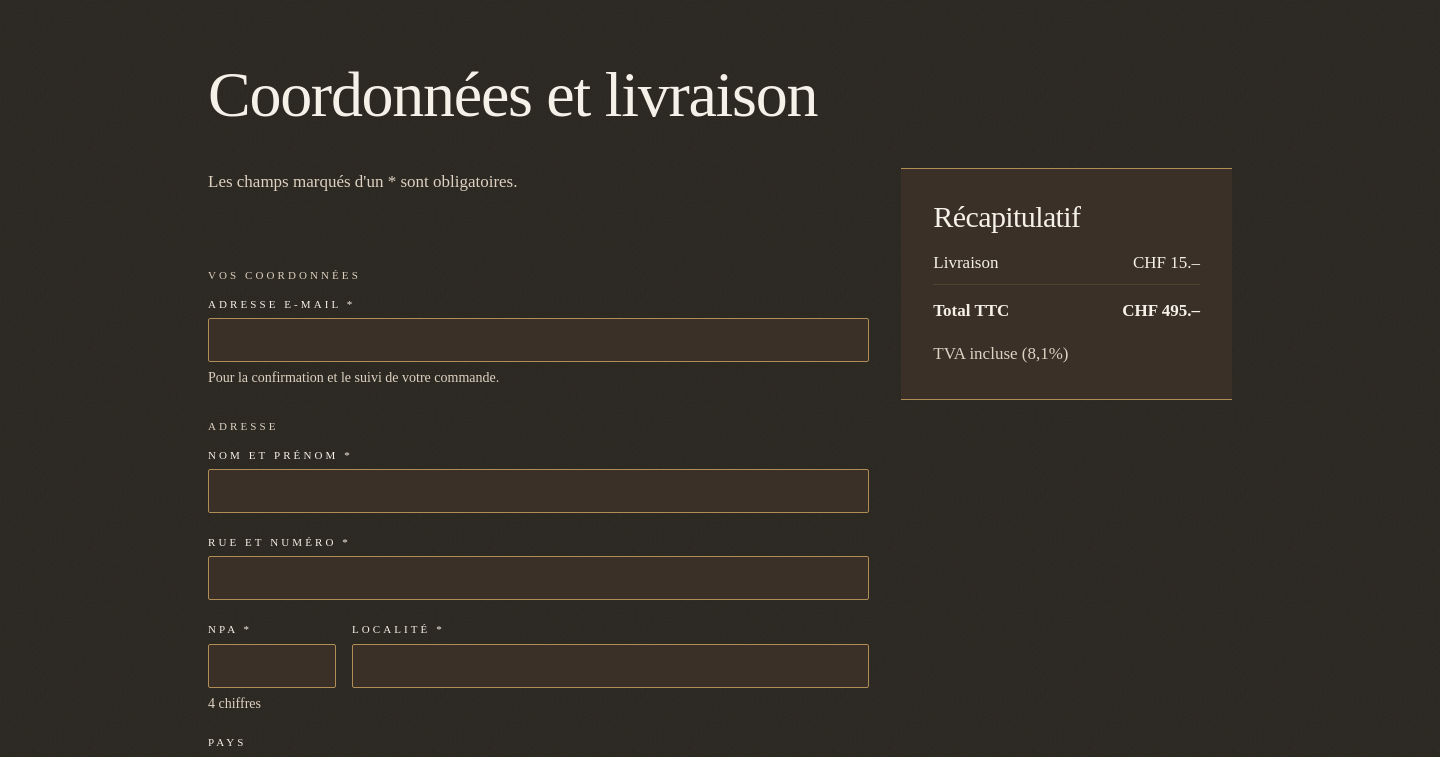
it: E5-03 · checkout, coordonnées et livraison › annonce une réservation expirée
Type "a@exemple.ch" into the field labelled "Adresse e-mail *". click: (539, 340)
box: 208,318 -> 869,362
Type "Alice Noyer" into the field labelled "Nom et prénom *". click: (539, 491)
box: 208,469 -> 869,513
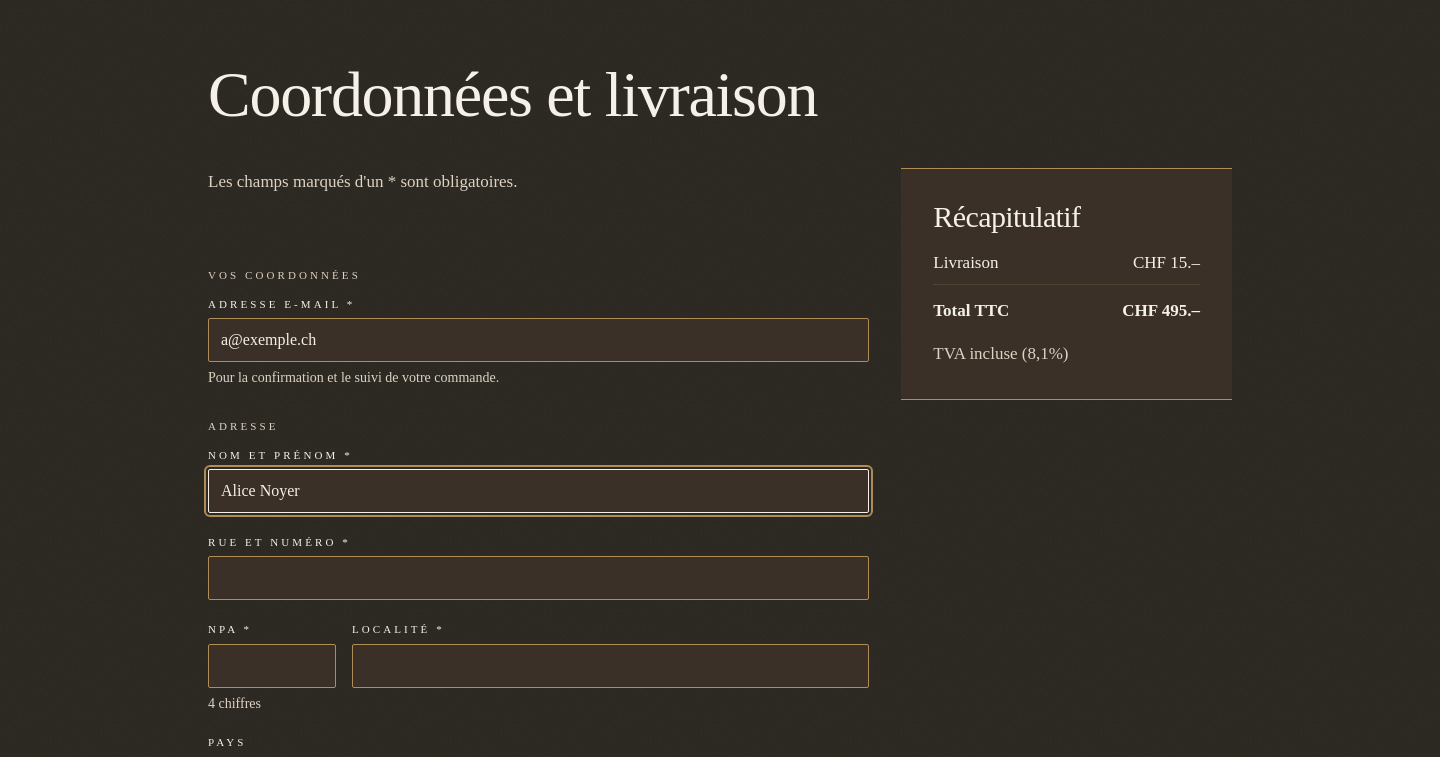
Type "Rue du Rhône 1" into the field labelled "Rue et numéro *". click: (539, 578)
box: 208,556 -> 869,600
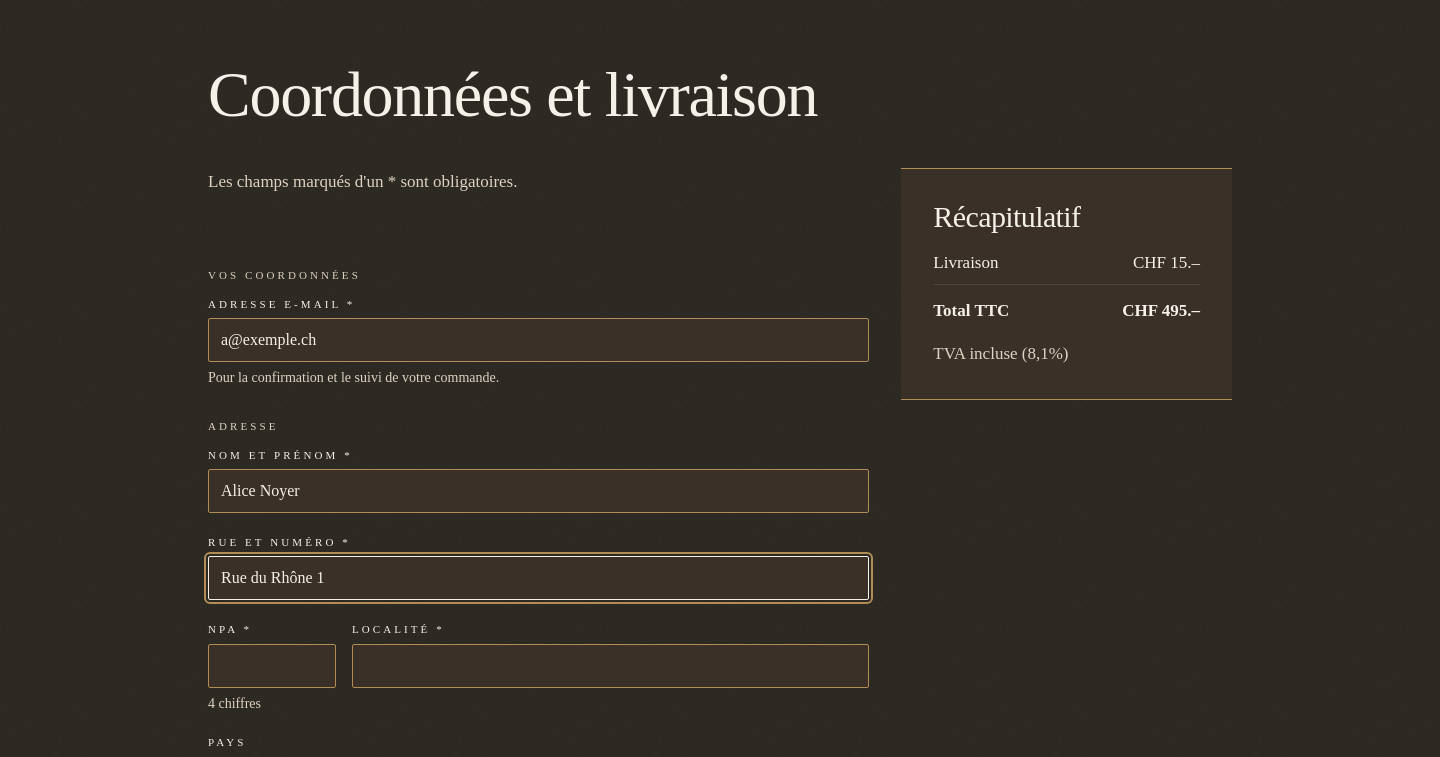
Type "1204" into the field labelled "NPA *". click: (272, 666)
box: 208,644 -> 336,688
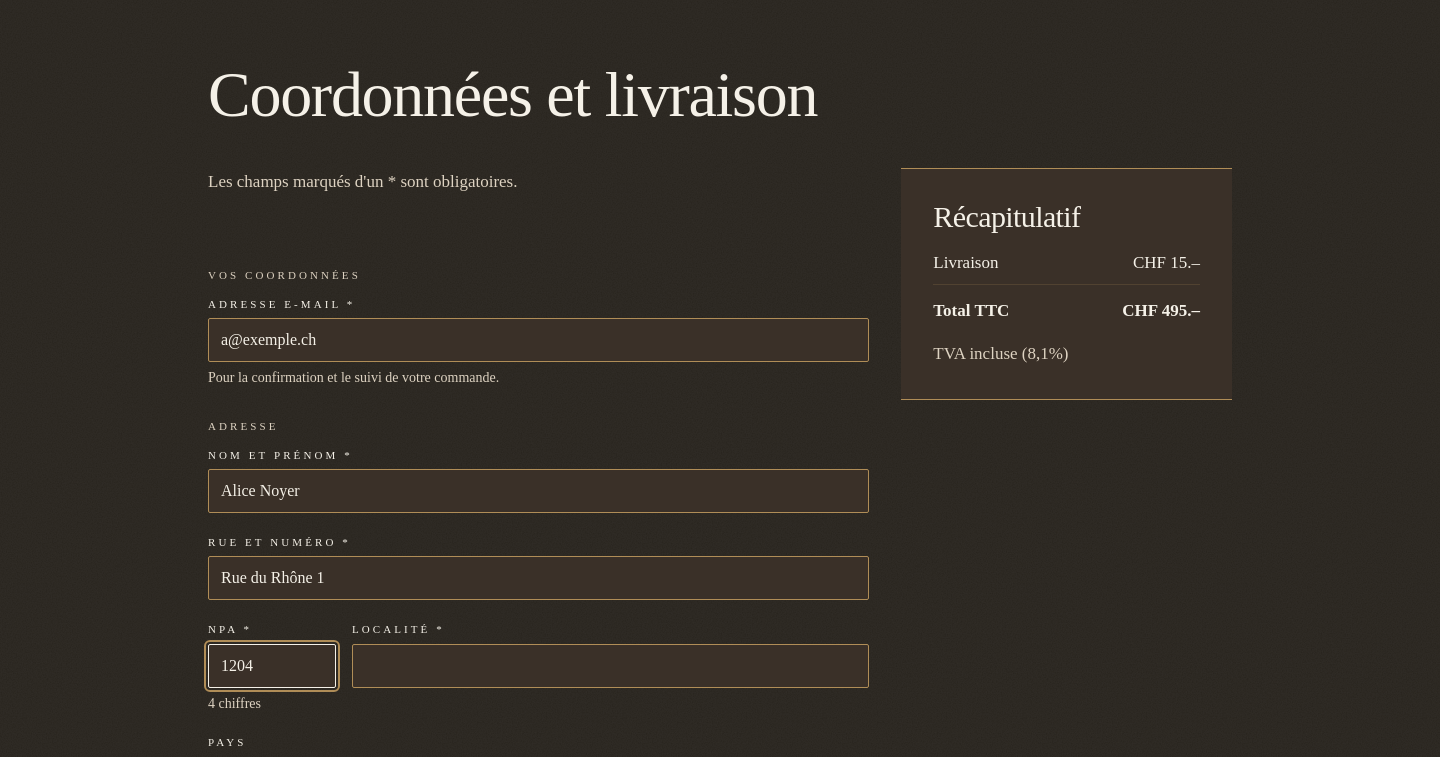
Type "Genève" into the field labelled "Localité *". click: (611, 666)
box: 352,644 -> 869,688
(page scrolled)
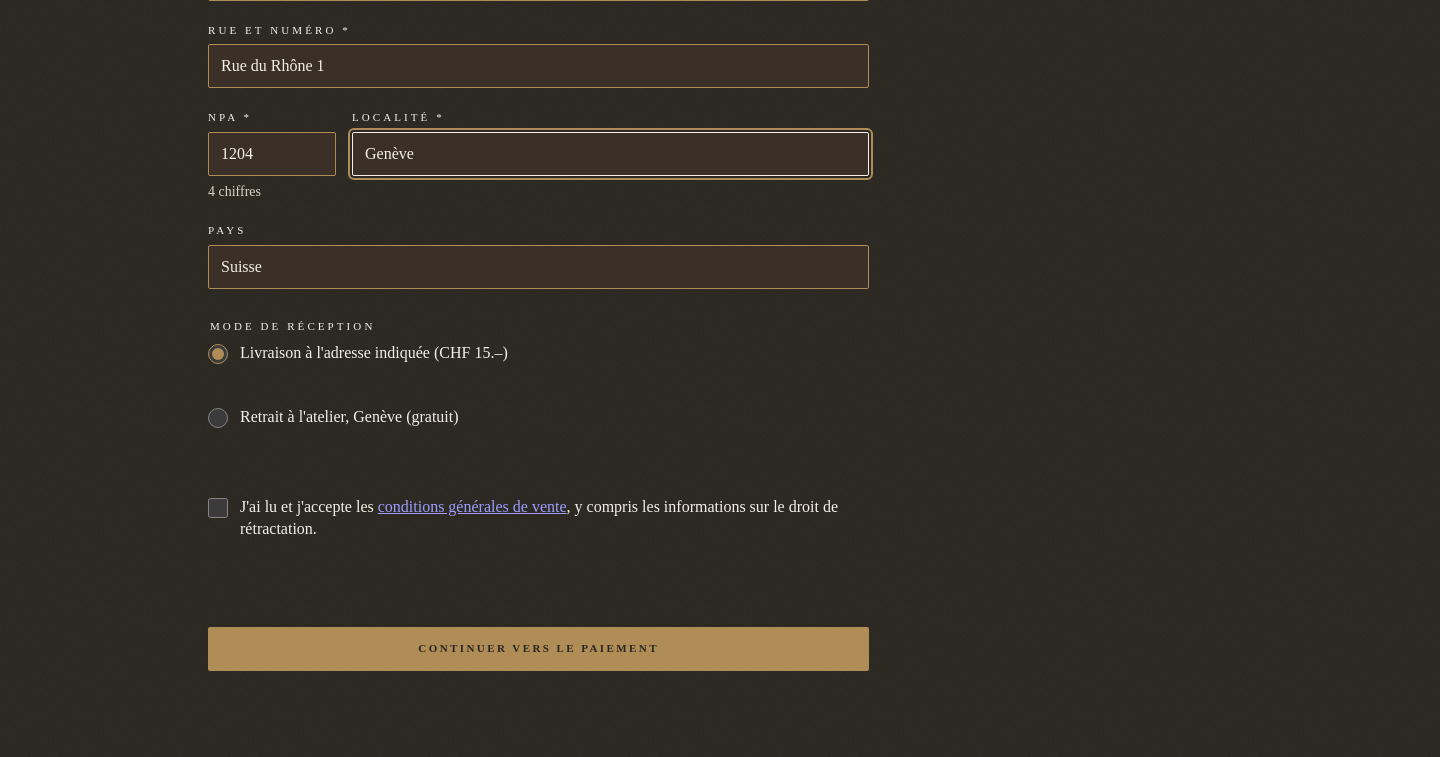
Click the checkbox. click: click(218, 508)
box: 208,498 -> 228,518
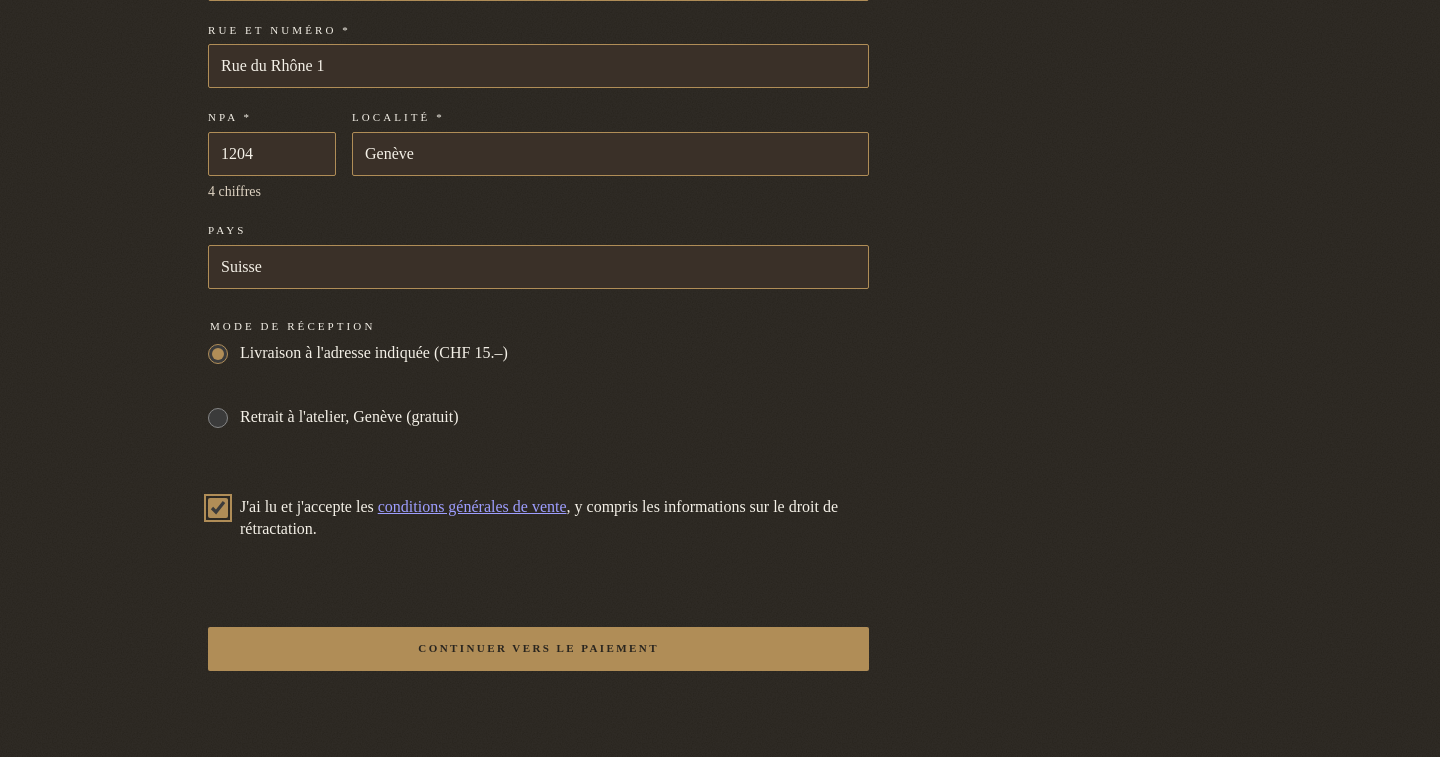
Click the button "Continuer vers le paiement". click: click(539, 649)
box: 208,627 -> 869,671
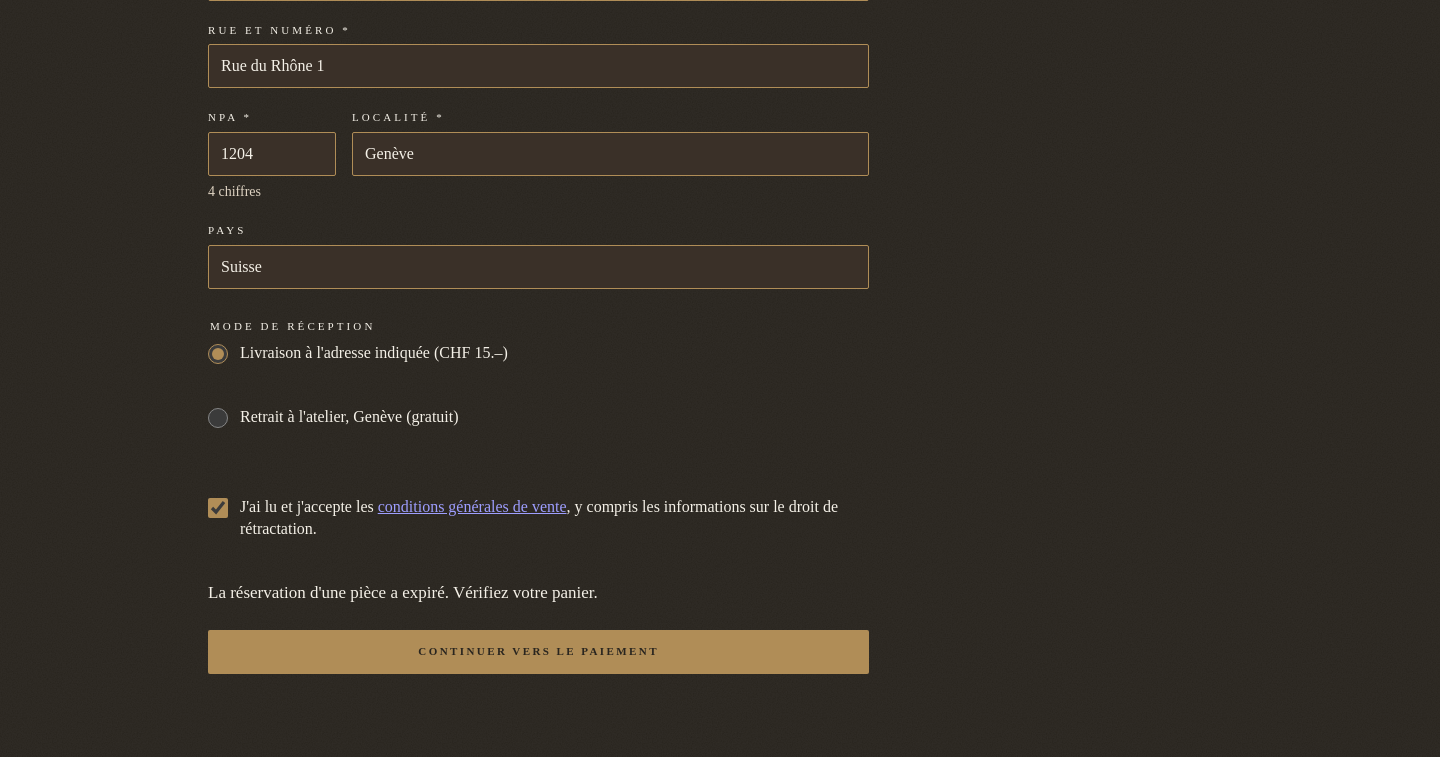
Expected: the text "La réservation d'une pièce a expiré. Vérifiez votre panier." is shown, 208,583 -> 598,602
